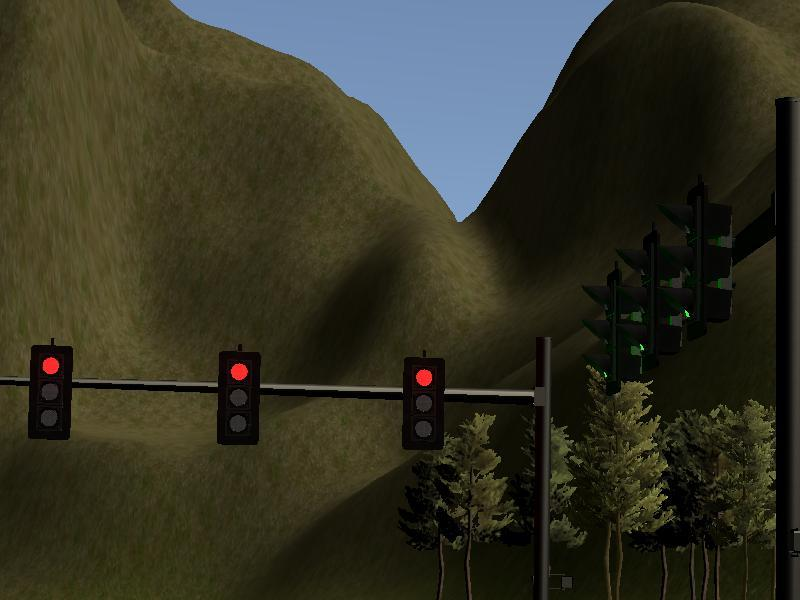Red: (403, 356, 444, 452), (218, 350, 259, 446), (29, 345, 70, 441)
